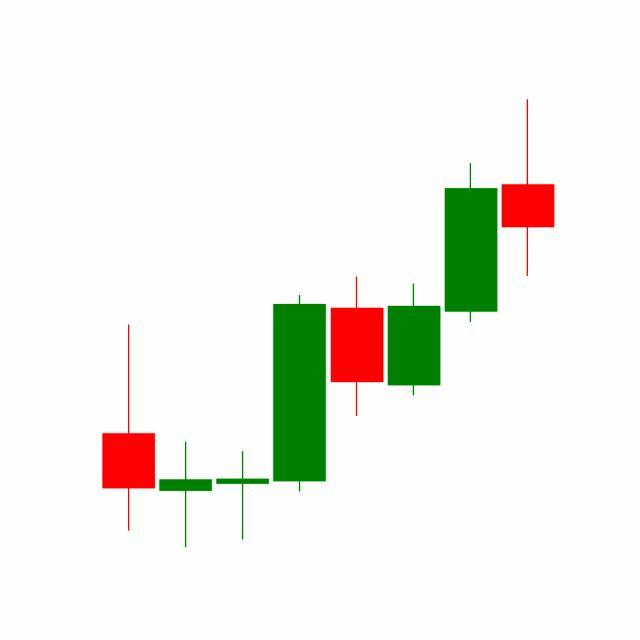Three Outside Up-Down: (328, 161, 500, 420)
